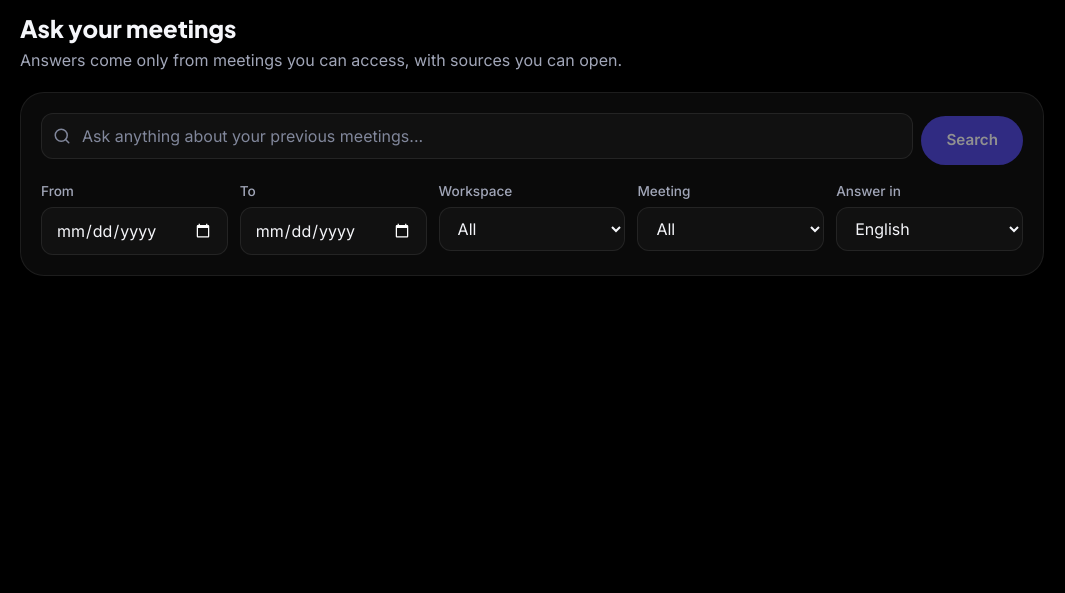
Test: MeetingSearch page states › keyword-only after a provider error shows the server banner
This screenshot has width=1065, height=593.
In the text box labelled "Ask anything about your previous meetings...": (477, 136) [41, 113, 913, 159], type "dashboard"
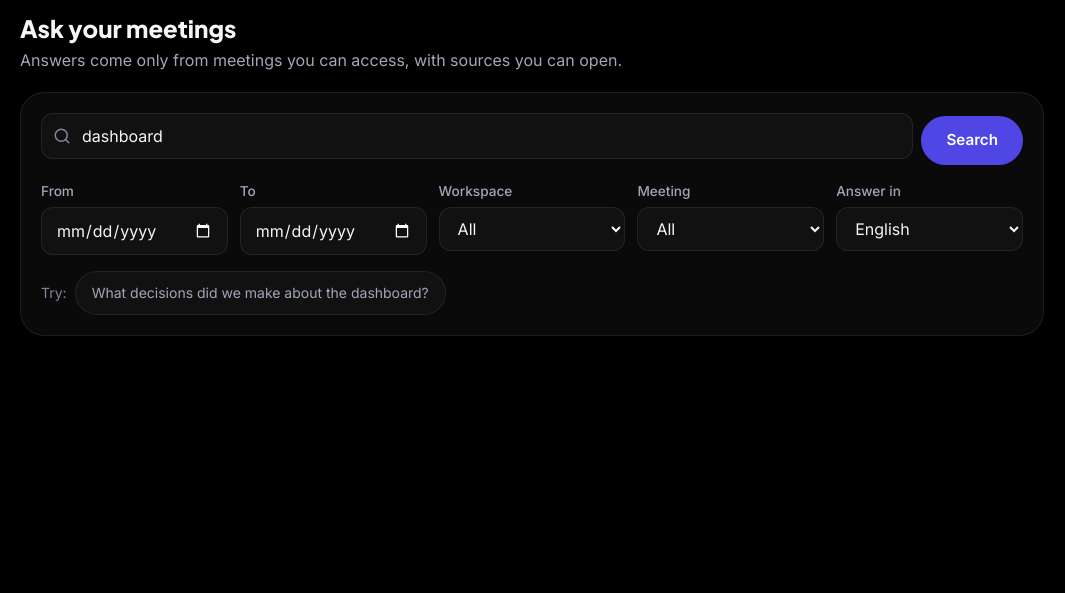
Press Enter in the text box named "Ask anything", box [41, 113, 913, 159]
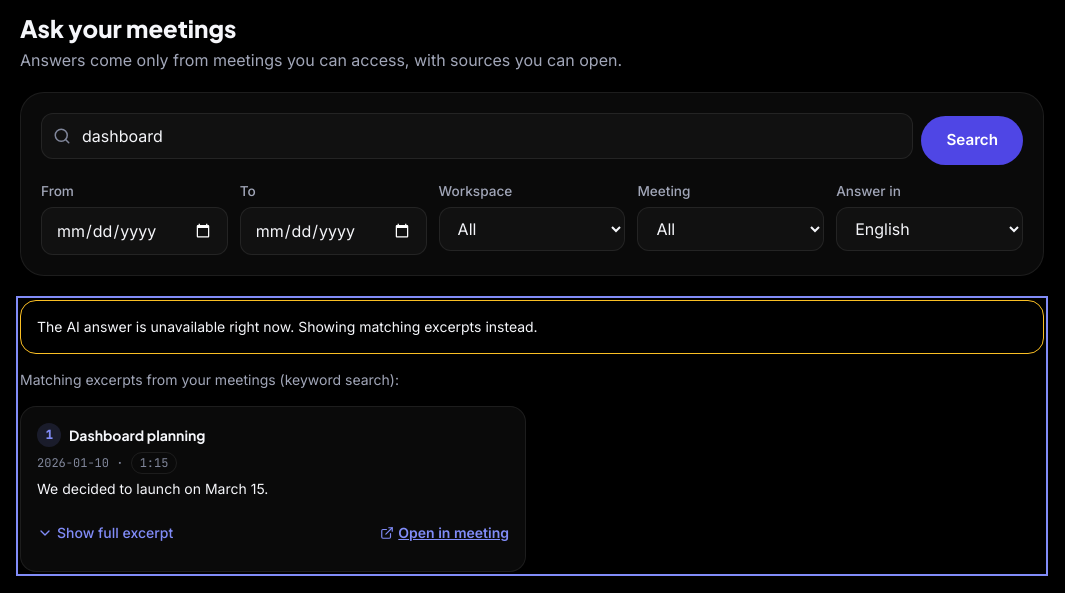
Now the text "The AI answer is unavailable right now. Showing matching excerpts instead." is shown, box [20, 300, 1044, 354]
